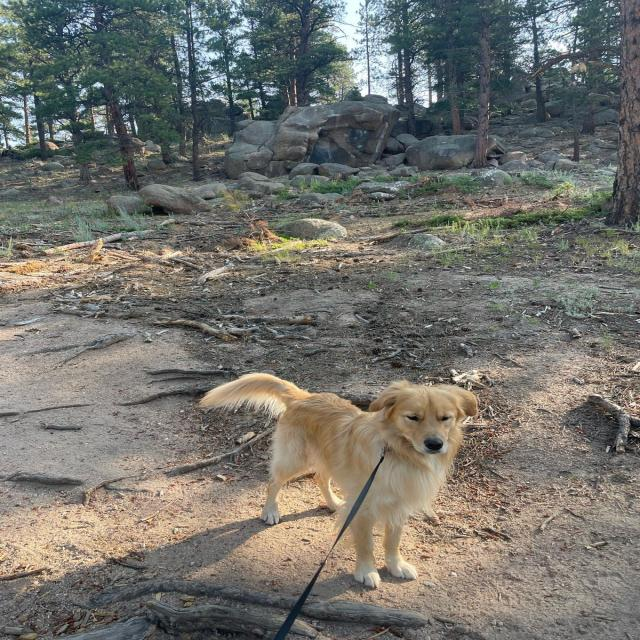golden_retriever_dog: (360, 373, 485, 468)
